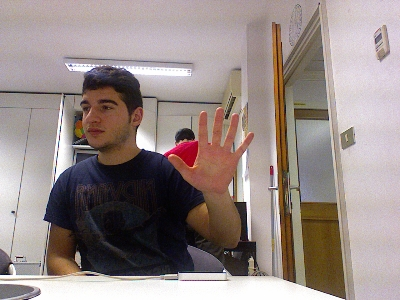布: (166, 104, 254, 195)
